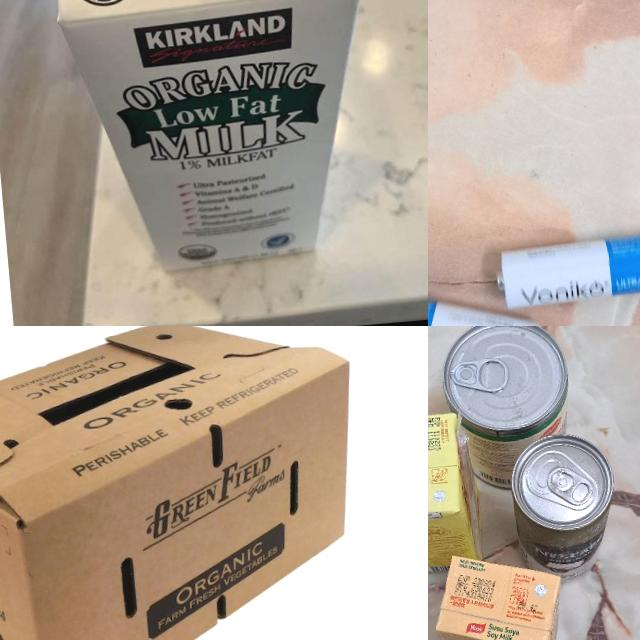aba de lata: (540, 462, 598, 512), (451, 353, 514, 399)
bateria: (491, 227, 640, 309), (428, 267, 546, 326)
caixinha: (36, 0, 388, 283), (429, 546, 569, 640), (428, 407, 488, 575)
lata: (438, 326, 576, 492), (508, 428, 622, 582)
papelão: (0, 326, 379, 640)
